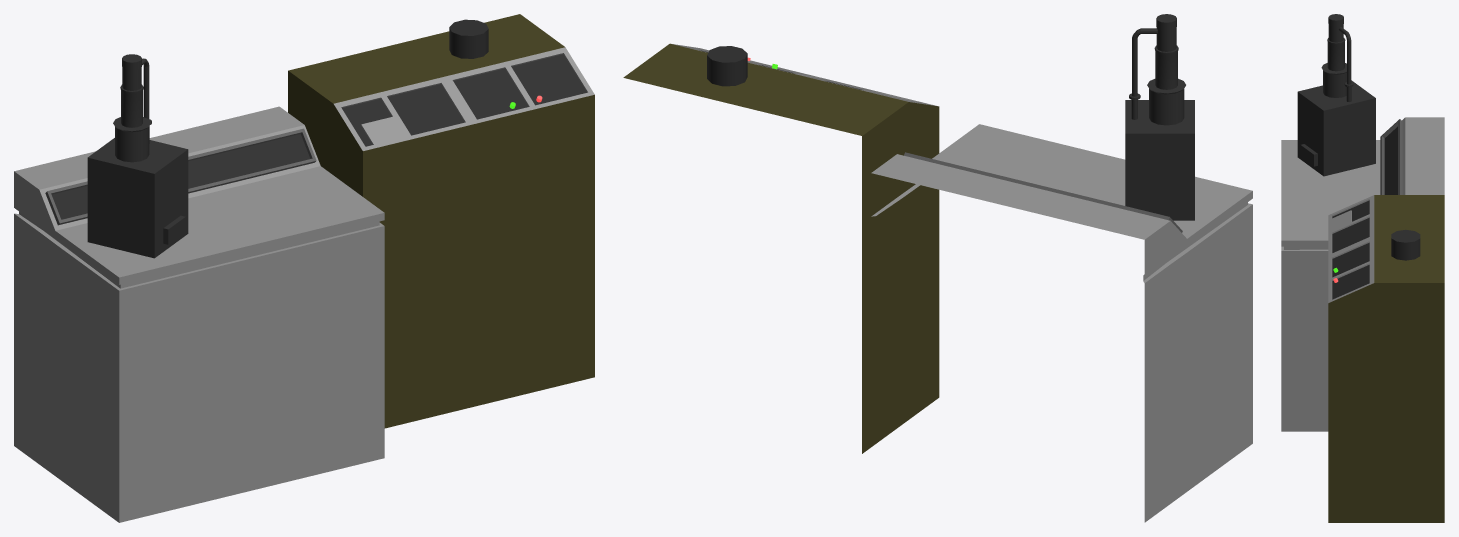
Rendered from tube_glass4.glb.
The picture shows the model from 3 angles, left to right: view 1: azimuth 30°, elevation 25°; view 2: azimuth 150°, elevation 25°; view 3: azimuth 270°, elevation 25°; orthographic projection. The views are drawn at different scales.
Visible parts, largest first — view 1: Object6414_Material #744_0; view 2: Object6414_Material #744_0; view 3: Object6414_Material #744_0.
Boxes of the visible parts, bbox=[...] form: Object6414_Material #744_0: bbox=[14, 14, 594, 522]; Object6414_Material #744_0: bbox=[623, 14, 1252, 522]; Object6414_Material #744_0: bbox=[1281, 14, 1444, 522].
Bounding box in the file's own units: 28.58 × 23.04 × 10.28.
